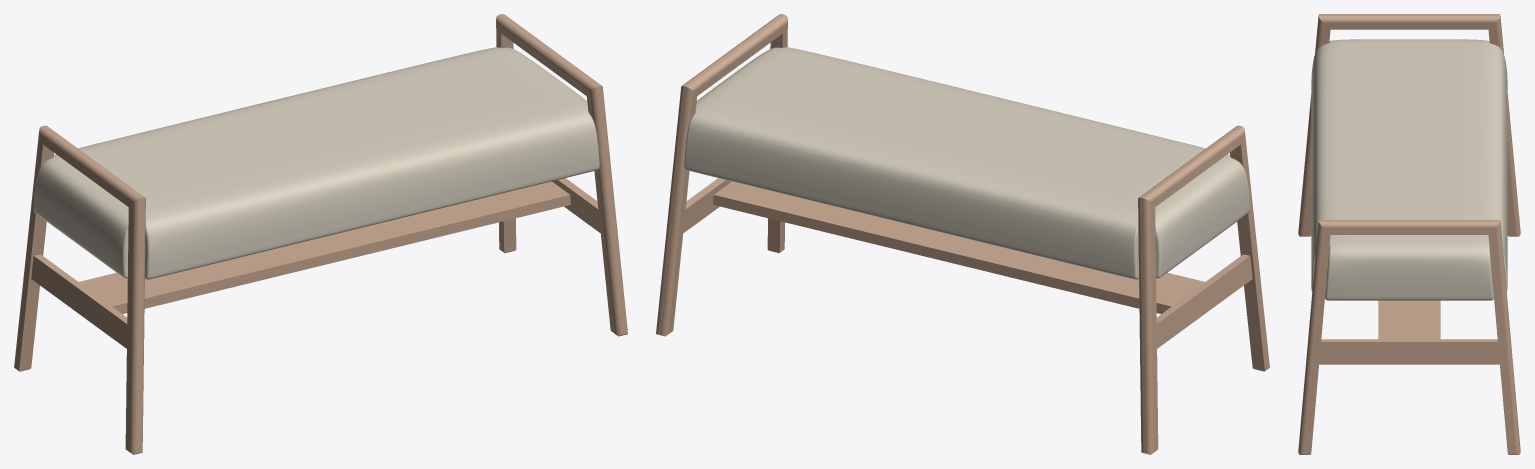
File: 539_ダイニングベンチ2人掛け.glb
3 views of the same model, side by side, from view 1: azimuth 30°, elevation 25°; view 2: azimuth 150°, elevation 25°; view 3: azimuth 270°, elevation 25° (orthographic). The views are drawn at different scales.
Parts seen in each view (by area): view 1: Body4; view 2: Body4; view 3: Body4.
Part boxes in pixels (x1,y1,x2,y2): Body4: (14,14,627,454); Body4: (656,14,1269,454); Body4: (1298,14,1520,454).
Size of the model in its own units: 1.02 by 0.4817 by 0.4299.
